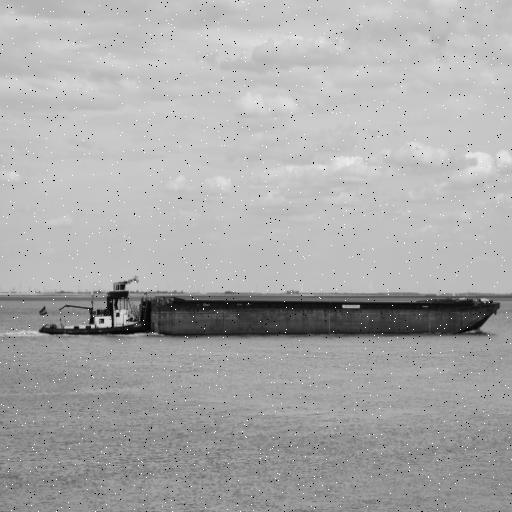tugboat: (39, 274, 156, 349)
